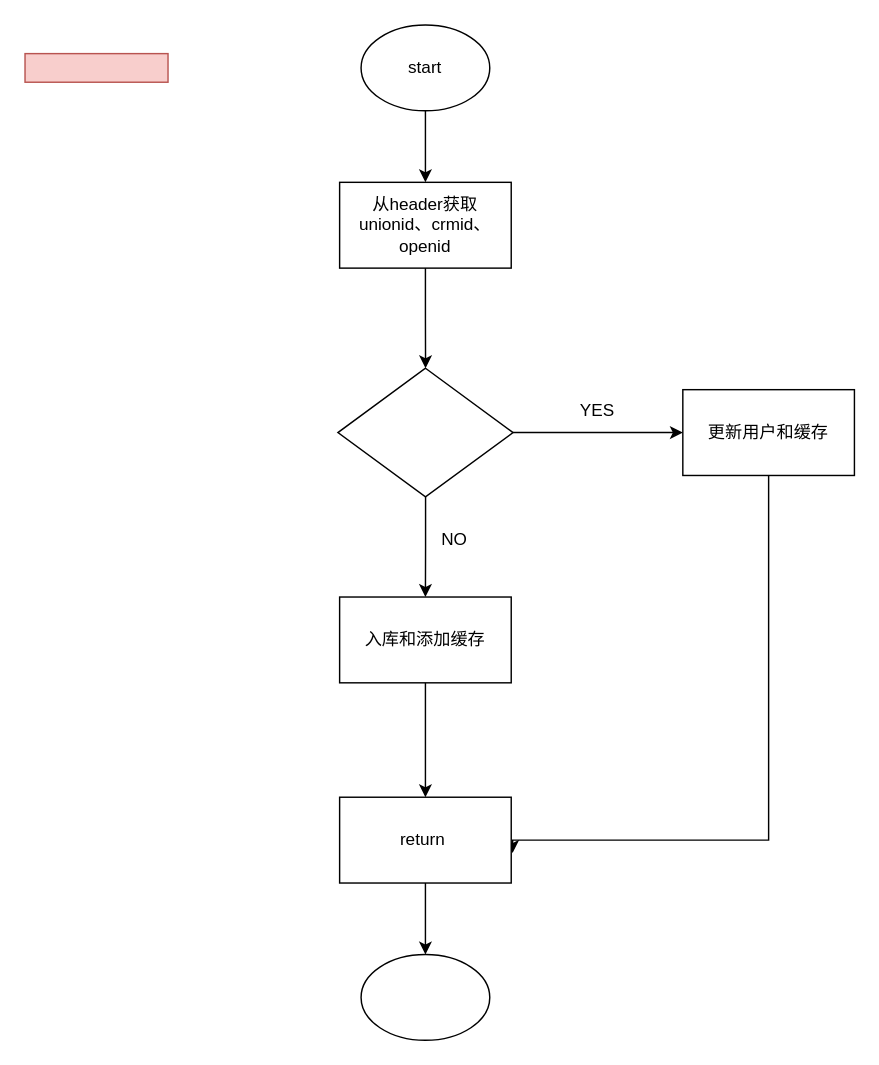
Some shapes in this 879 by 1065 pixel diagram are drawn without their labels. The shapes that lost their labels are listed below. From the top down, each one's centre as x and y in pixels, then its label:
At pixel 96 67: "小程序用户login".
At pixel 424 432: "通过unionid查询判断用户是否在db".
At pixel 425 996: "end".
